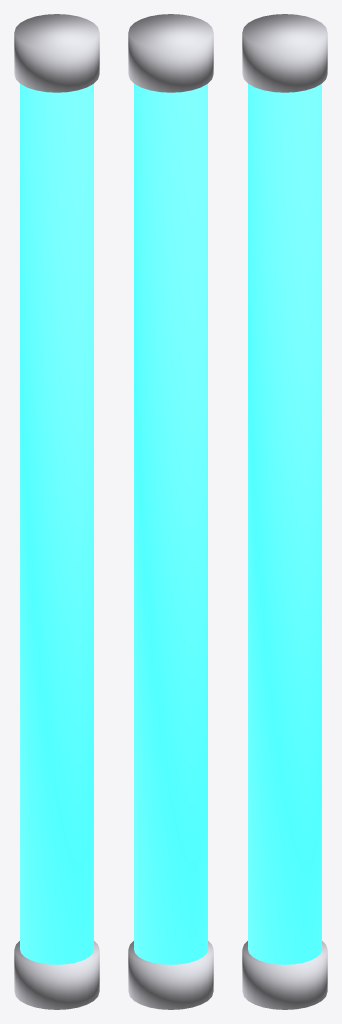
The model's file is glowstick_blue.glb.
3 renders of one model, left to right at view 1: azimuth 30°, elevation 25°; view 2: azimuth 150°, elevation 25°; view 3: azimuth 330°, elevation 25°, orthographic.
Parts seen in each view (by area): view 1: GlowBlue; view 2: GlowBlue; view 3: GlowBlue.
Part boxes in pixels (bbox=[...]): GlowBlue: bbox=[14, 14, 99, 1009]; GlowBlue: bbox=[128, 14, 213, 1009]; GlowBlue: bbox=[242, 14, 327, 1009].
Bounding box in the file's own units: 0.0126 × 0.157 × 0.0126.
